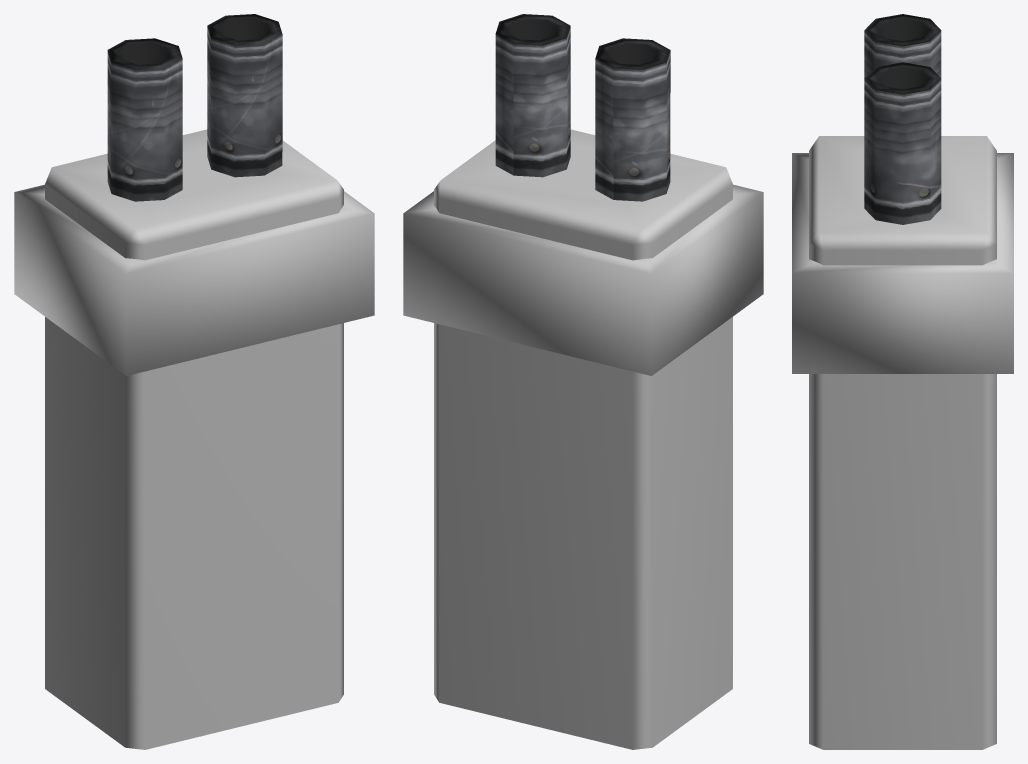
Rendered from Chimney3.fbx.
3 renders of one model, left to right at view 1: azimuth 30°, elevation 25°; view 2: azimuth 150°, elevation 25°; view 3: azimuth 270°, elevation 25°, orthographic.
Visible parts, largest first — view 1: Mesh; view 2: Mesh; view 3: Mesh.
Part boxes in pixels (<box>): Mesh: <box>14,14,374,749</box>; Mesh: <box>403,14,763,749</box>; Mesh: <box>792,14,1013,749</box>.
Size of the model in its own units: 173 by 432 by 135.
Materials: 3 (1 with a texture image).
